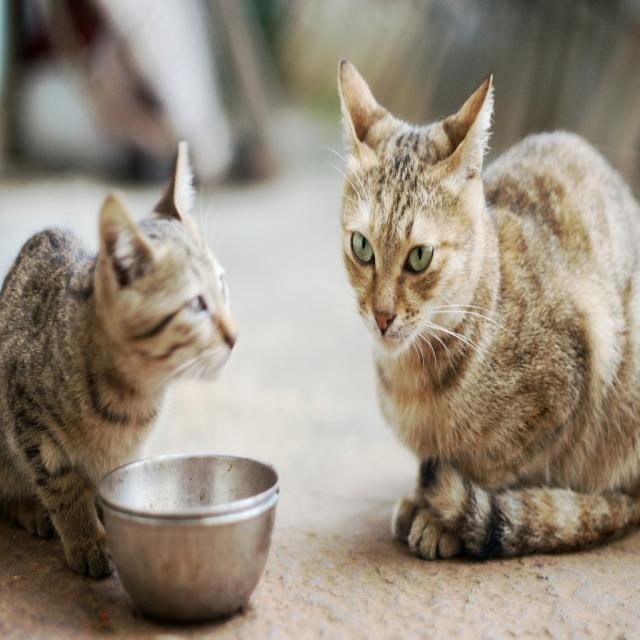Cat: (322, 58, 640, 559), (0, 140, 239, 578)
